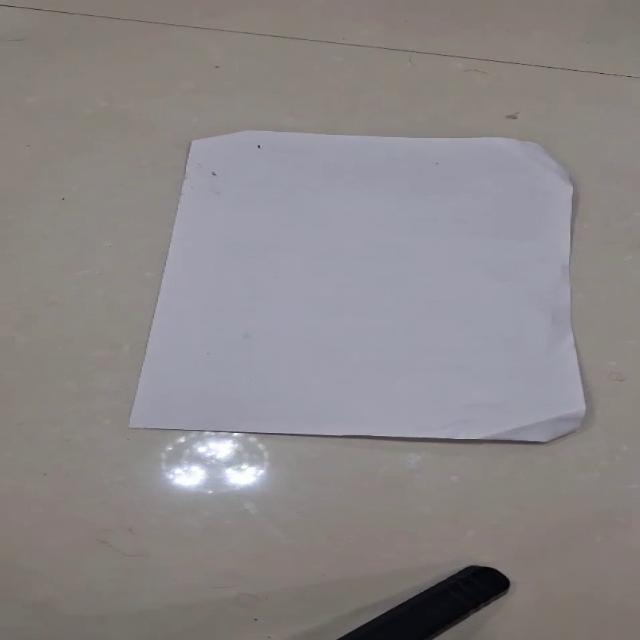paper: (126, 128, 588, 442)
